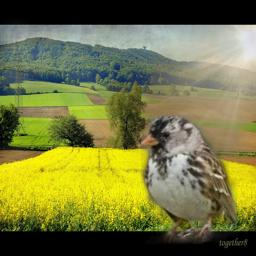Sparrow: (141, 115, 237, 244)
